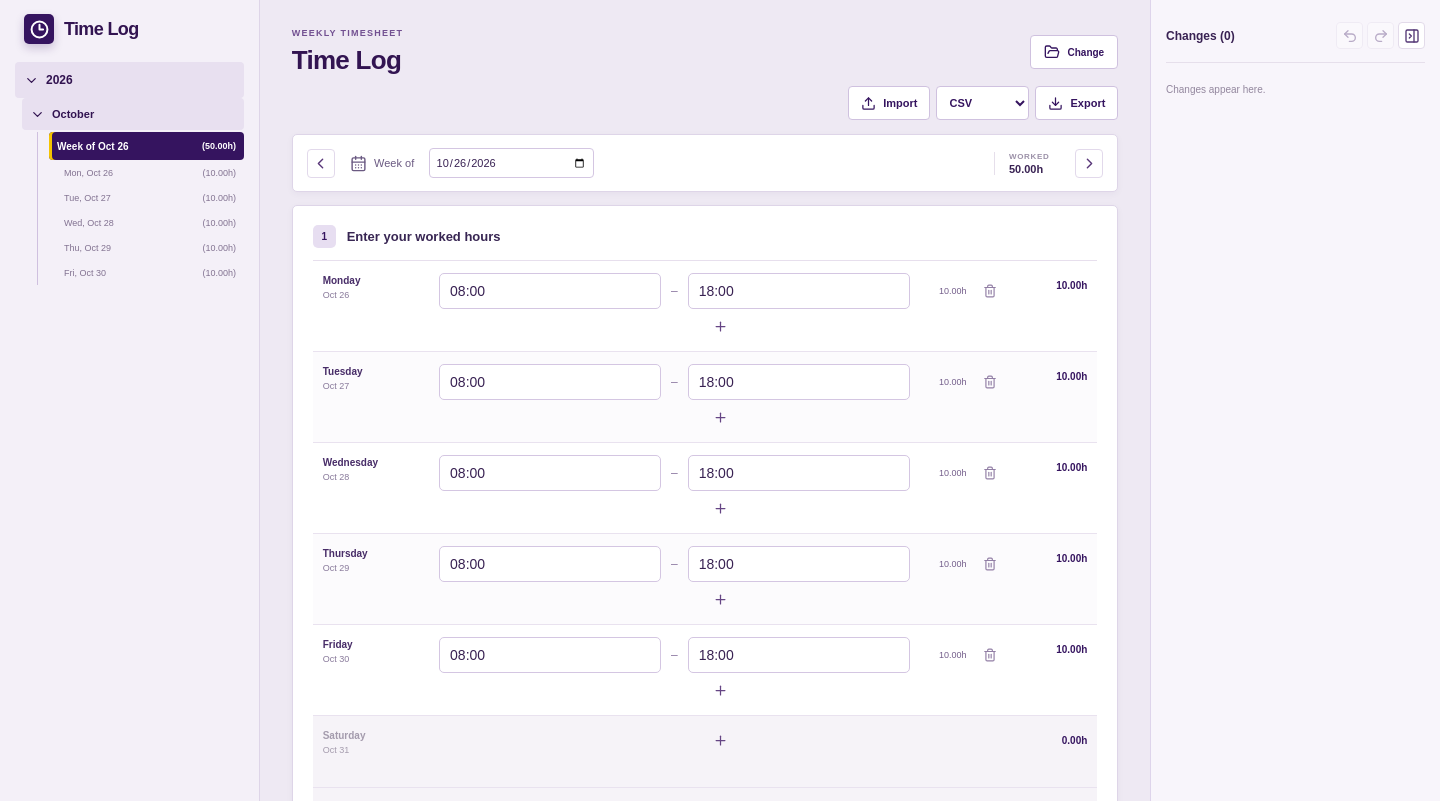
Test: App import and export › exports edited days in the chosen format
Replace the text in the field named "Monday Span 1 Start Time" with "9": (550, 291) [439,273,661,309]
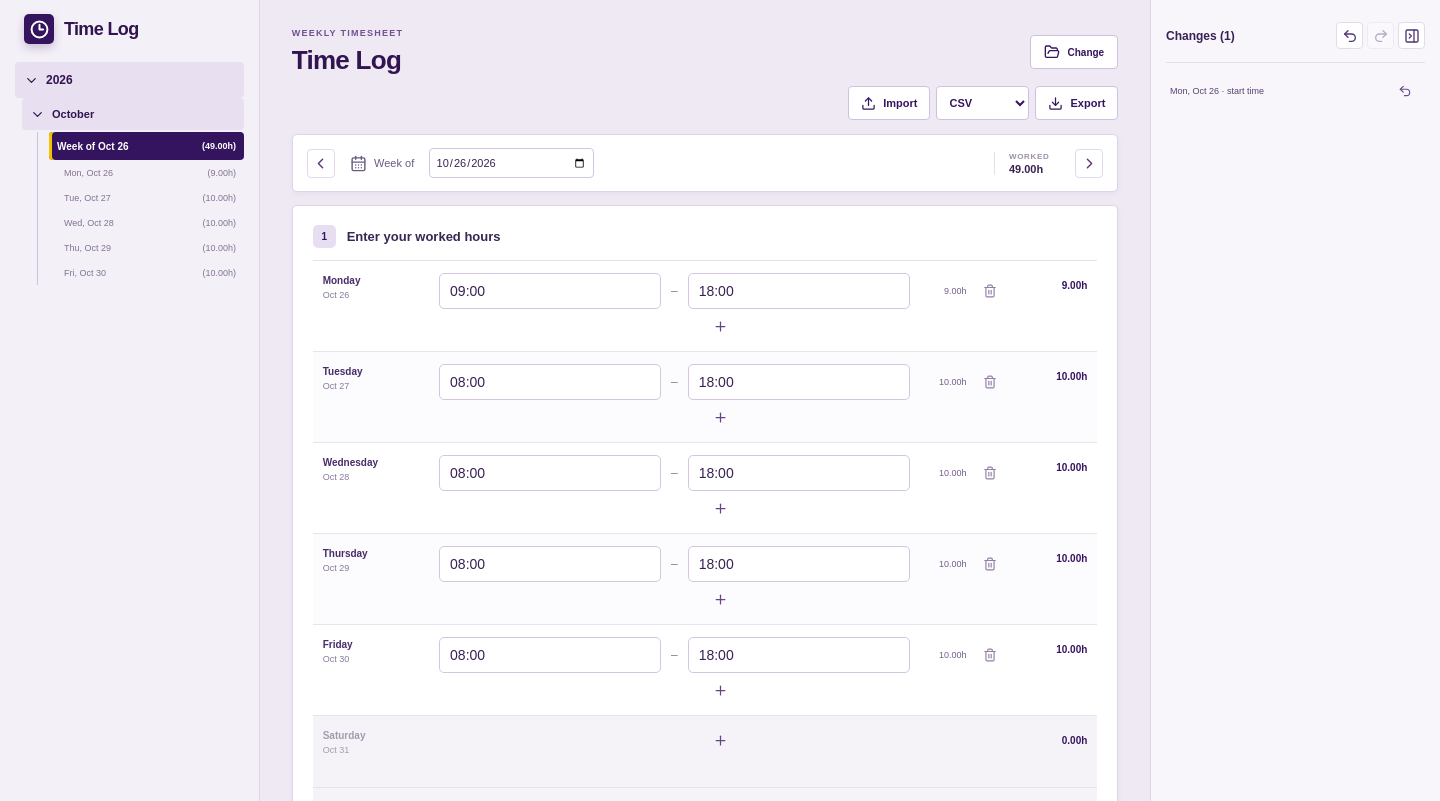
Replace the text in the field named "Monday Span 1 End Time" with "12": (799, 291) [688,273,910,309]
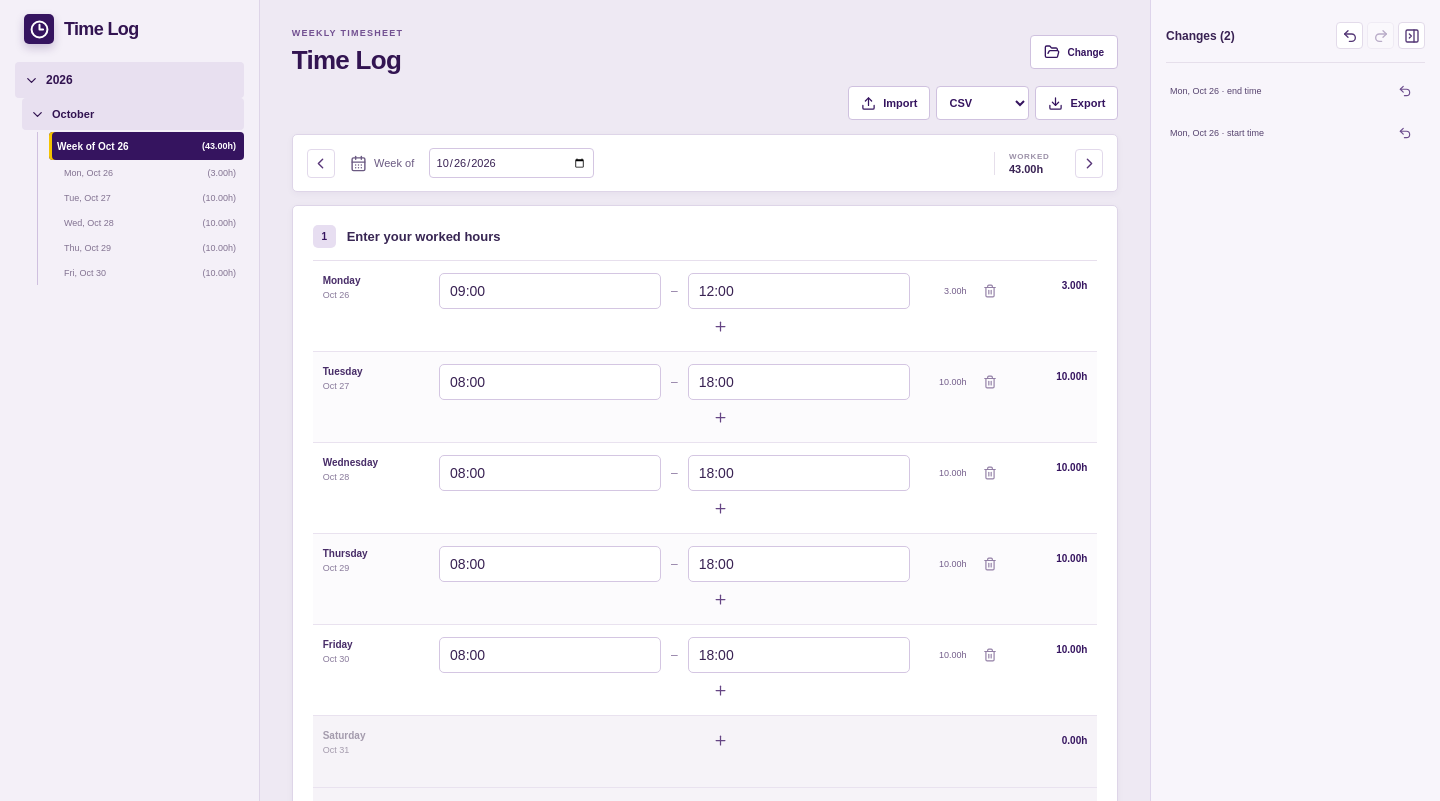
Select "Markdown" in the dropdown named "Export Format": (983, 103) [936,86,1030,120]
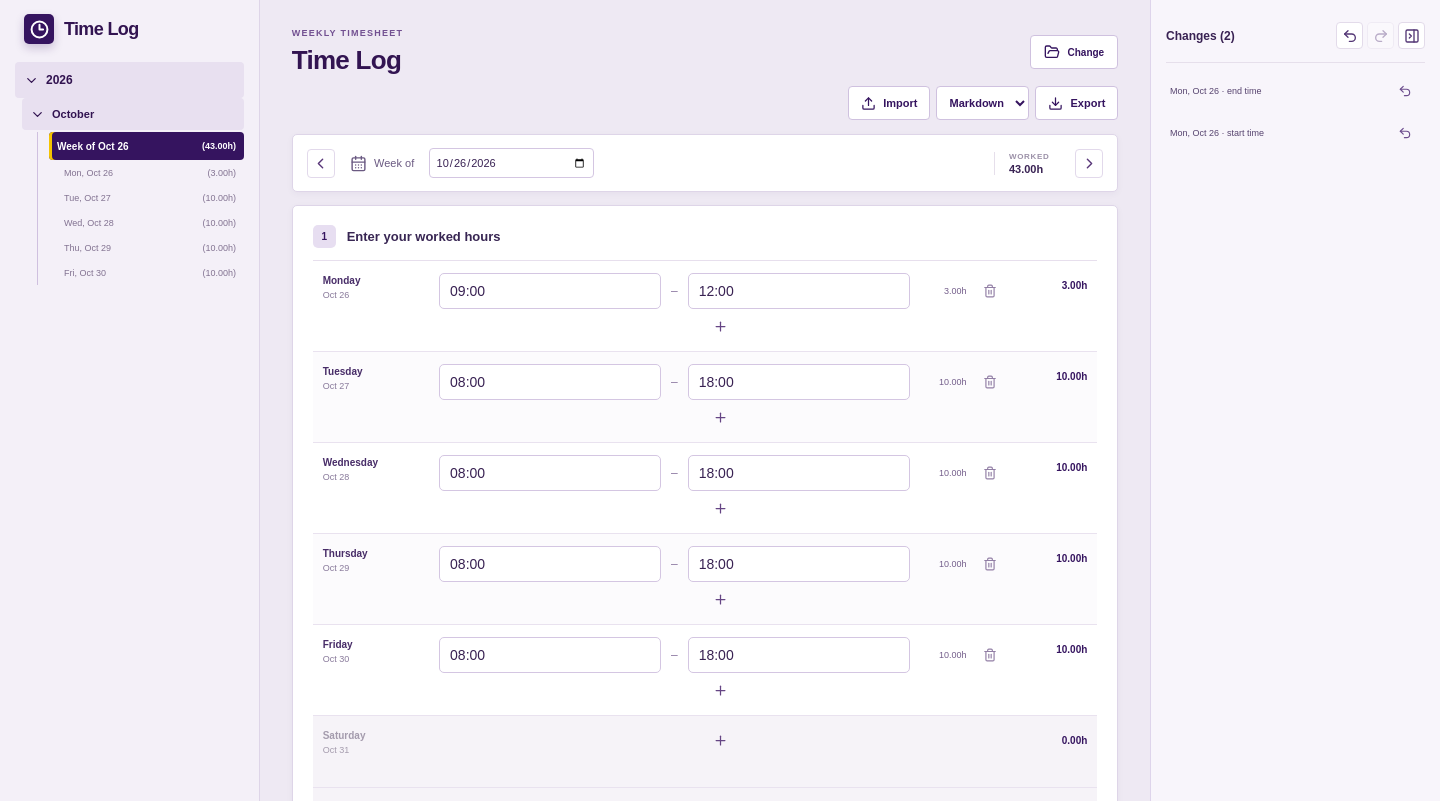
Click the button titled "Export Hours": (1077, 103) [1036,86,1118,120]
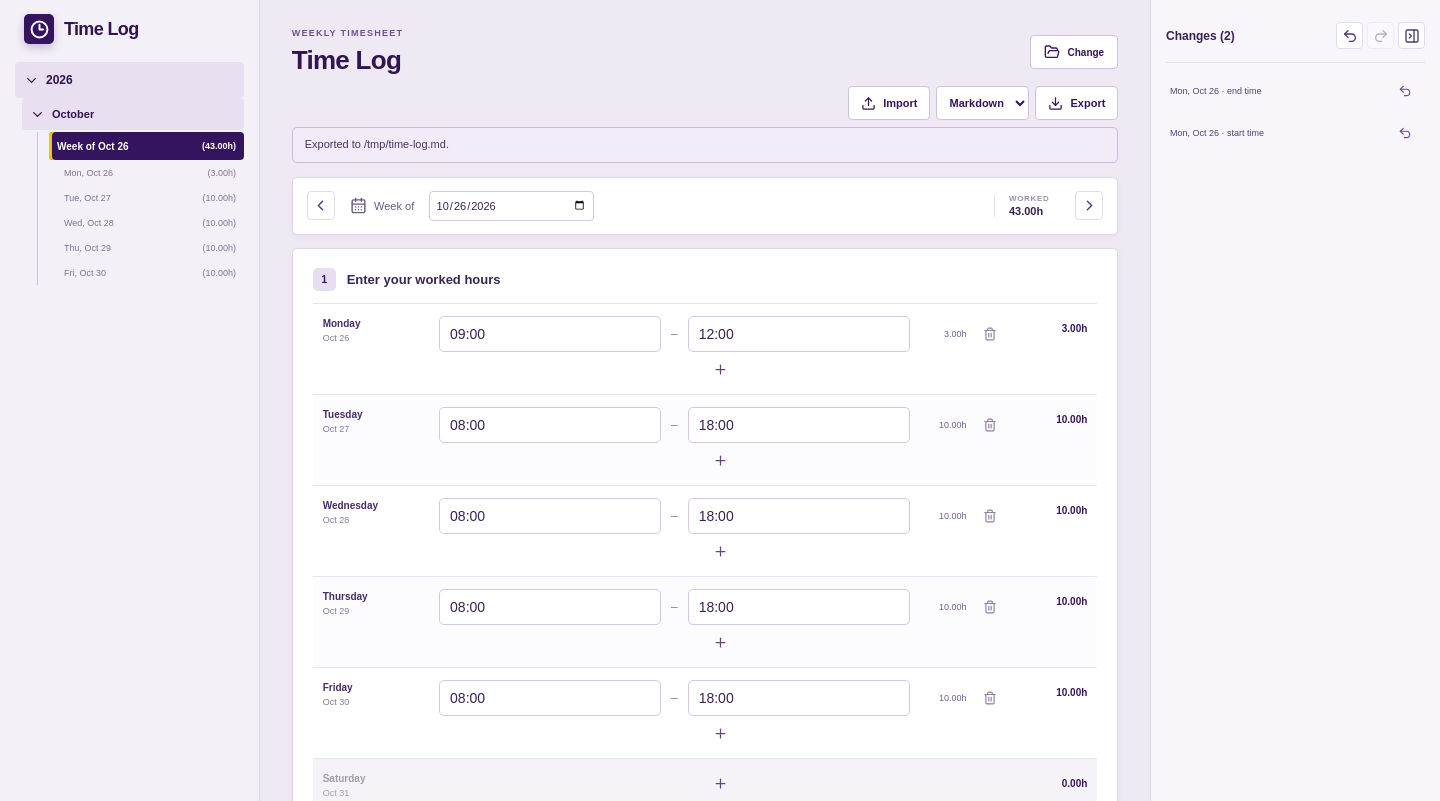
Expected: the message shows "Exported to /tmp/time-log.md", [305,138,449,150]
